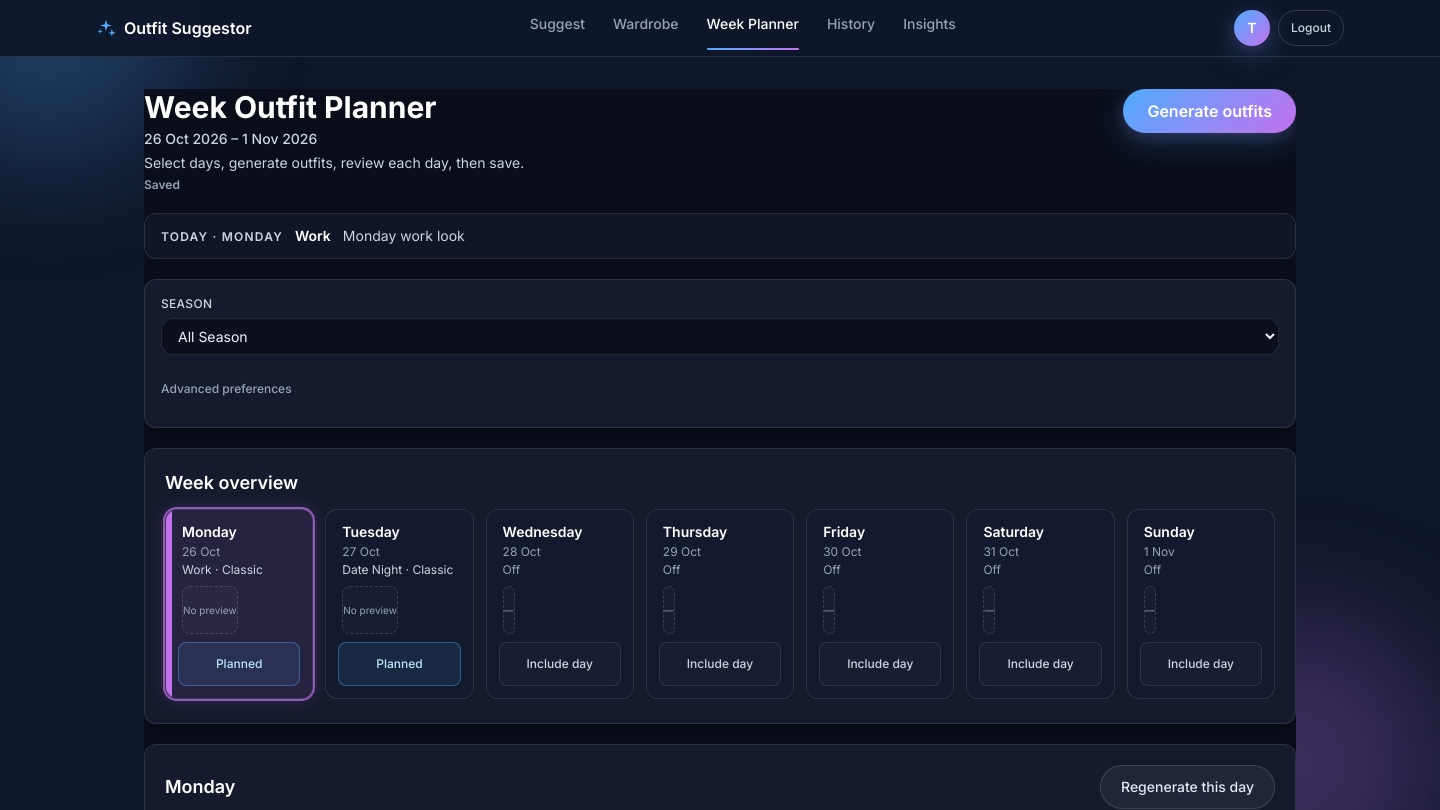
Test: Week Outfit Planner › updates detail panel when selecting a different day without reload
Click the button with test id "week-day-select-1": (399, 578) [338,522,461,634]
(page scrolled)
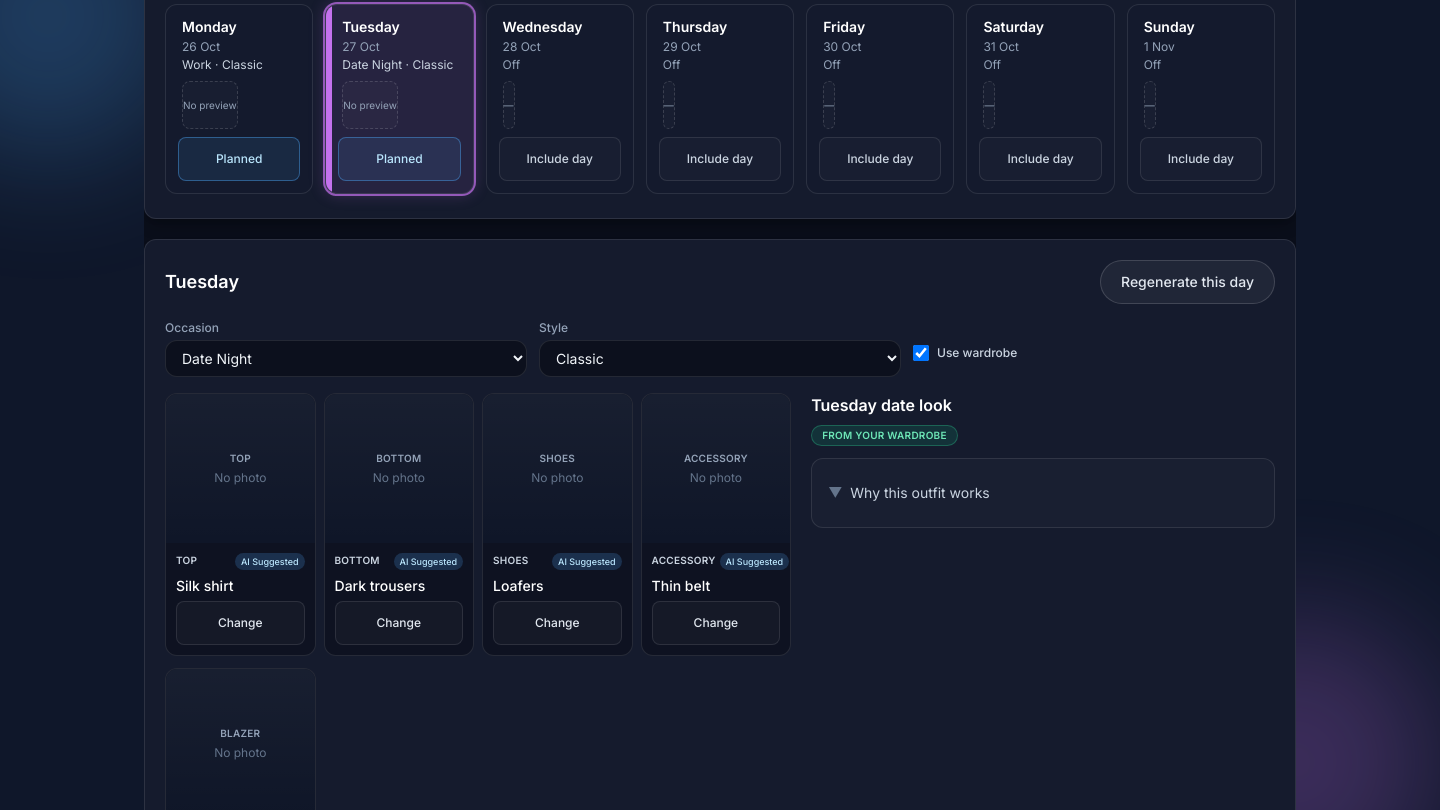
expect the text with test id "week-day-summary-1" reads "Tuesday date look": met, box [811,395,952,415]
